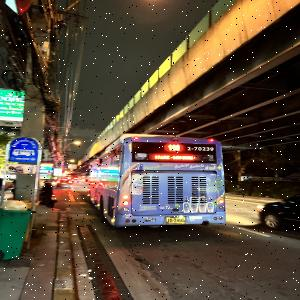BMTA-bus: (88, 135, 226, 229)
Bus Line Number: (166, 143, 182, 152)
Destination Sign: (188, 145, 215, 153)
